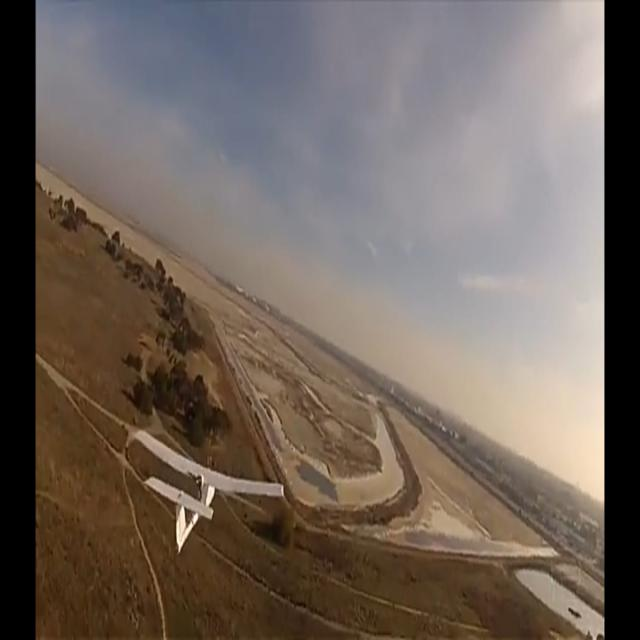iha: (134, 426, 284, 555)
